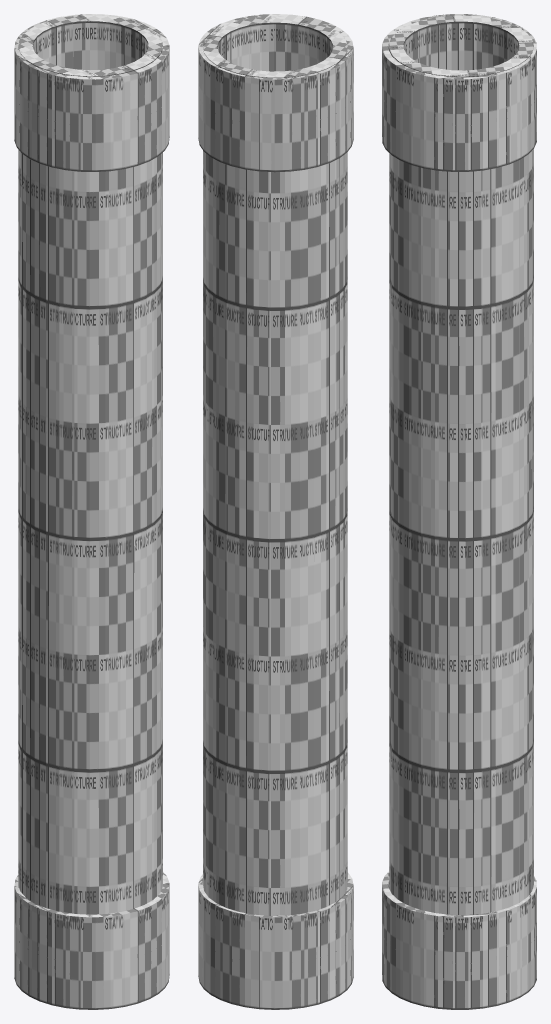
The model's file is Pipe(wall).fbx.
3 views of the same model, side by side, from view 1: azimuth 30°, elevation 25°; view 2: azimuth 150°, elevation 25°; view 3: azimuth 270°, elevation 25° (orthographic).
Parts seen in each view (by area): view 1: Pipe_wall_, Pipe_Ring_wall__1, Pipe_Ring_wall_; view 2: Pipe_wall_, Pipe_Ring_wall__1, Pipe_Ring_wall_; view 3: Pipe_wall_, Pipe_Ring_wall__1, Pipe_Ring_wall_.
Part boxes in pixels (<box>): Pipe_wall_: <box>18,15,162,914</box>; Pipe_Ring_wall__1: <box>14,14,169,171</box>; Pipe_Ring_wall_: <box>14,872,169,1009</box>; Pipe_wall_: <box>203,16,347,915</box>; Pipe_Ring_wall__1: <box>198,14,353,172</box>; Pipe_Ring_wall_: <box>198,872,353,1009</box>; Pipe_wall_: <box>389,15,533,914</box>; Pipe_Ring_wall__1: <box>382,14,536,171</box>; Pipe_Ring_wall_: <box>382,871,536,1009</box>.
Bounding box in the file's own units: 86.62 × 575 × 86.62.
